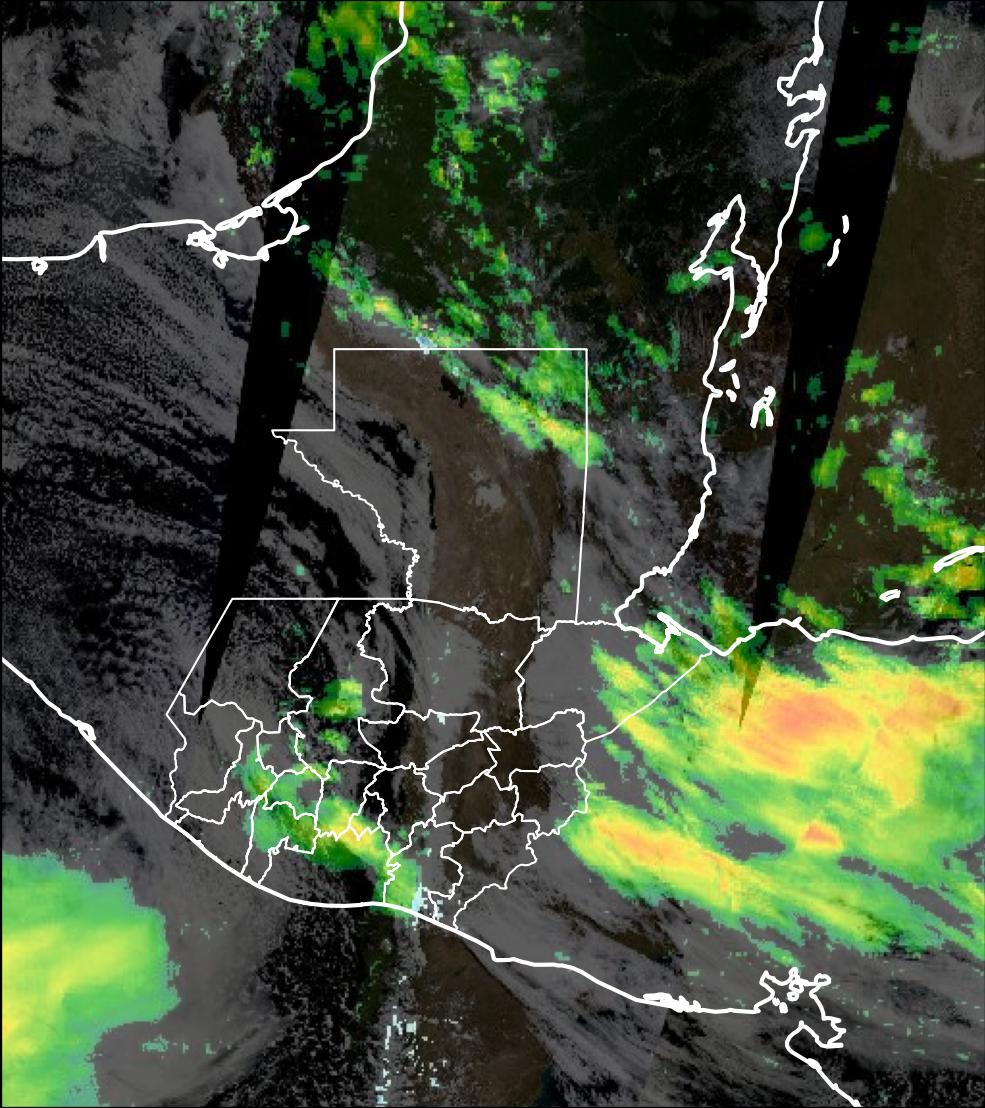precipitacion: (724, 664, 985, 864)
